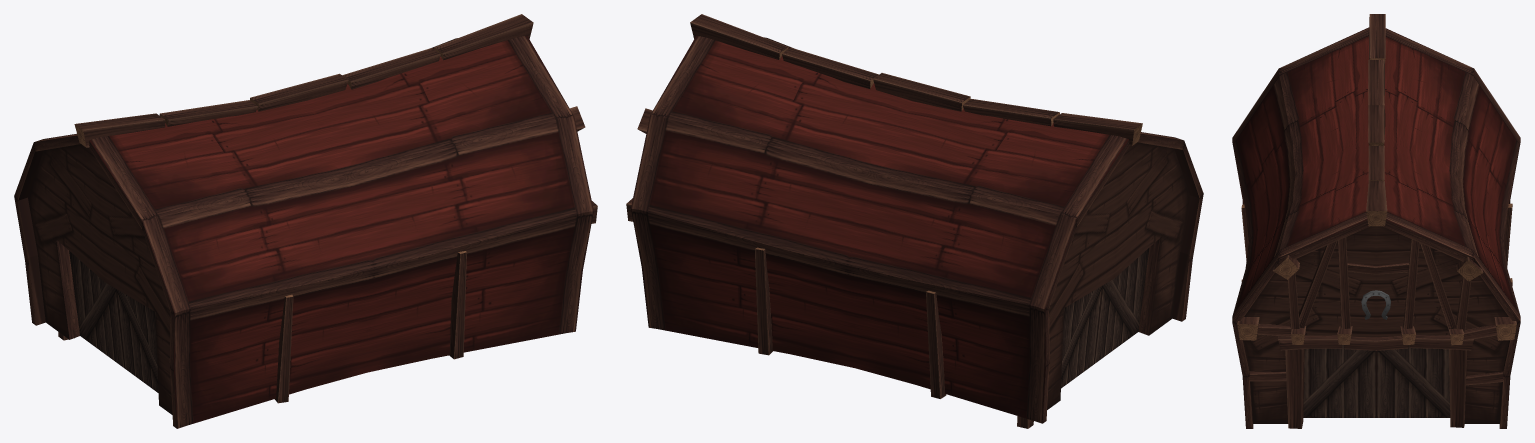
The model's file is Farm.FBX.
3 renders of one model, left to right at view 1: azimuth 30°, elevation 25°; view 2: azimuth 150°, elevation 25°; view 3: azimuth 270°, elevation 25°, orthographic. The views are drawn at different scales.
Parts seen in each view (by area): view 1: Box043, Object002; view 2: Box043, Object002; view 3: Box043, Object002.
Part boxes in pixels (box(x1,y1,x2,y2)): Box043: box(14, 35, 593, 428); Object002: box(58, 14, 597, 403); Box043: box(631, 35, 1203, 423); Object002: box(626, 14, 1142, 428); Box043: box(1232, 27, 1520, 428); Object002: box(1237, 14, 1516, 428).
Bounding box in the file's own units: 148 × 84.74 × 91.55.
